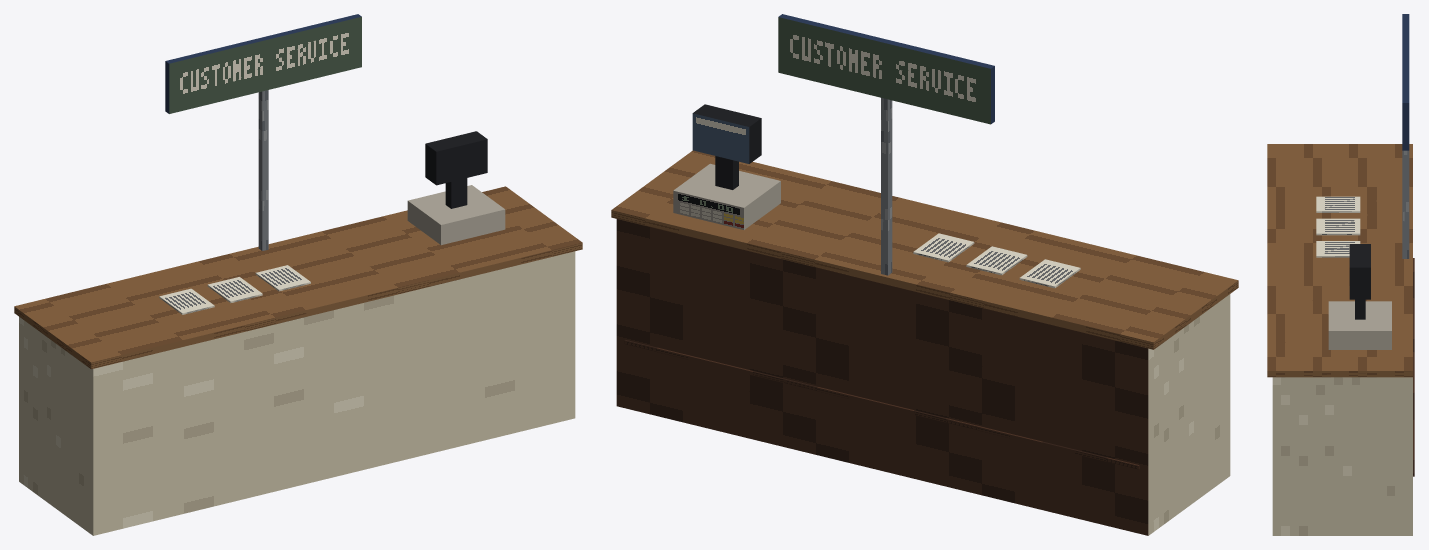
File: COM_ServiceCounter.glb
3 renders of one model, left to right at view 1: azimuth 30°, elevation 25°; view 2: azimuth 150°, elevation 25°; view 3: azimuth 270°, elevation 25°, orthographic. The views are drawn at different scales.
Visible parts, largest first — view 1: COM_ServiceCounter_Mesh; view 2: COM_ServiceCounter_Mesh; view 3: COM_ServiceCounter_Mesh.
Part boxes in pixels (<box>): COM_ServiceCounter_Mesh: <box>14,14,582,535</box>; COM_ServiceCounter_Mesh: <box>611,14,1238,535</box>; COM_ServiceCounter_Mesh: <box>1267,14,1414,535</box>.
Size of what is drawn, in the model's own units: 3.06 by 2.3 by 0.84.
Materials: 1 (1 with a texture image).
